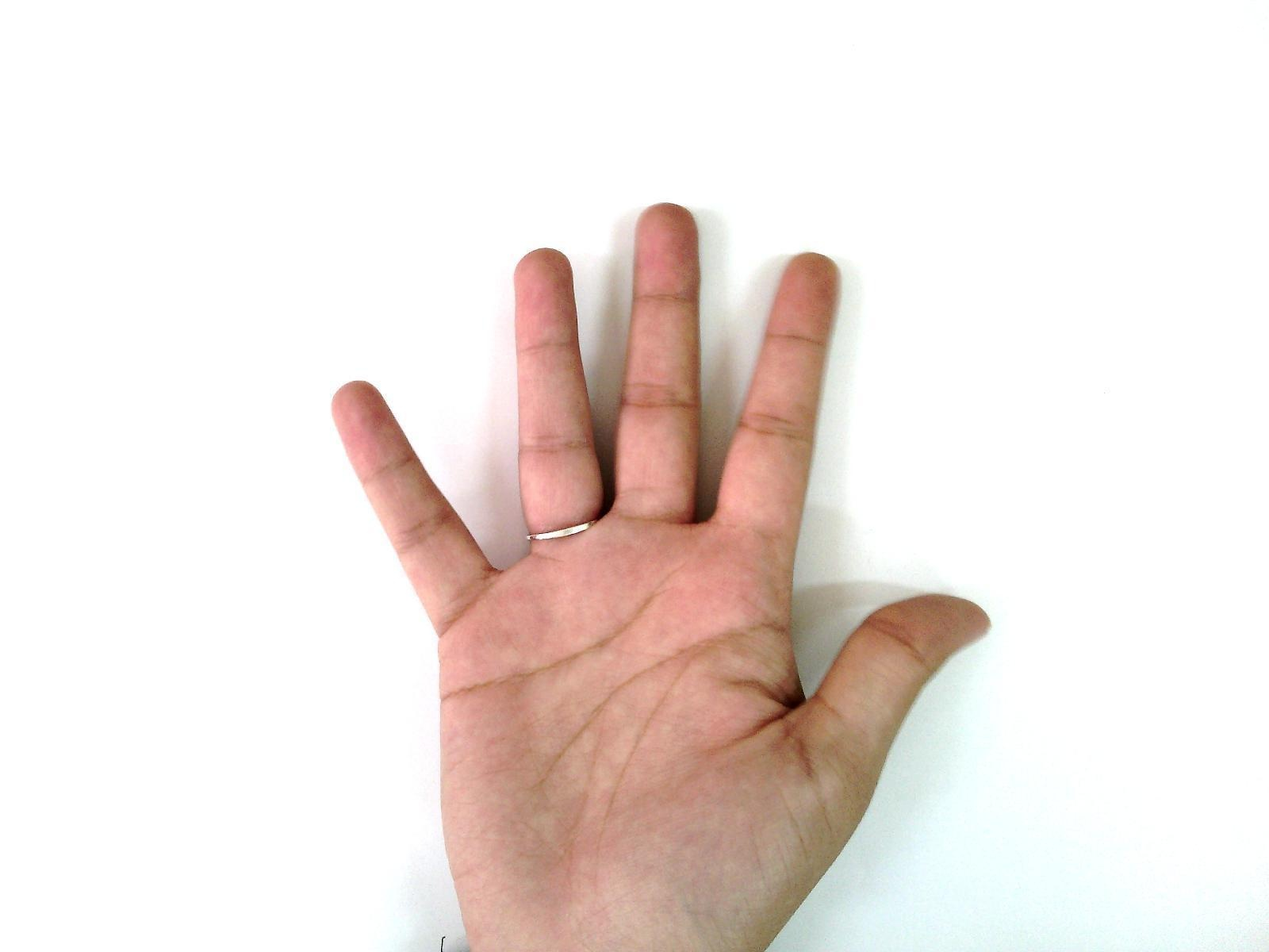open_palm: (328, 202, 994, 951)
